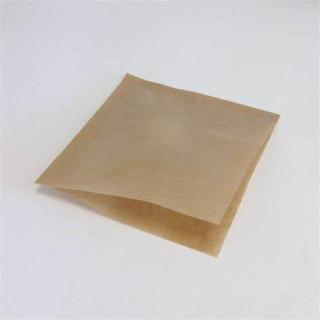Anorganik: (37, 72, 280, 255)
